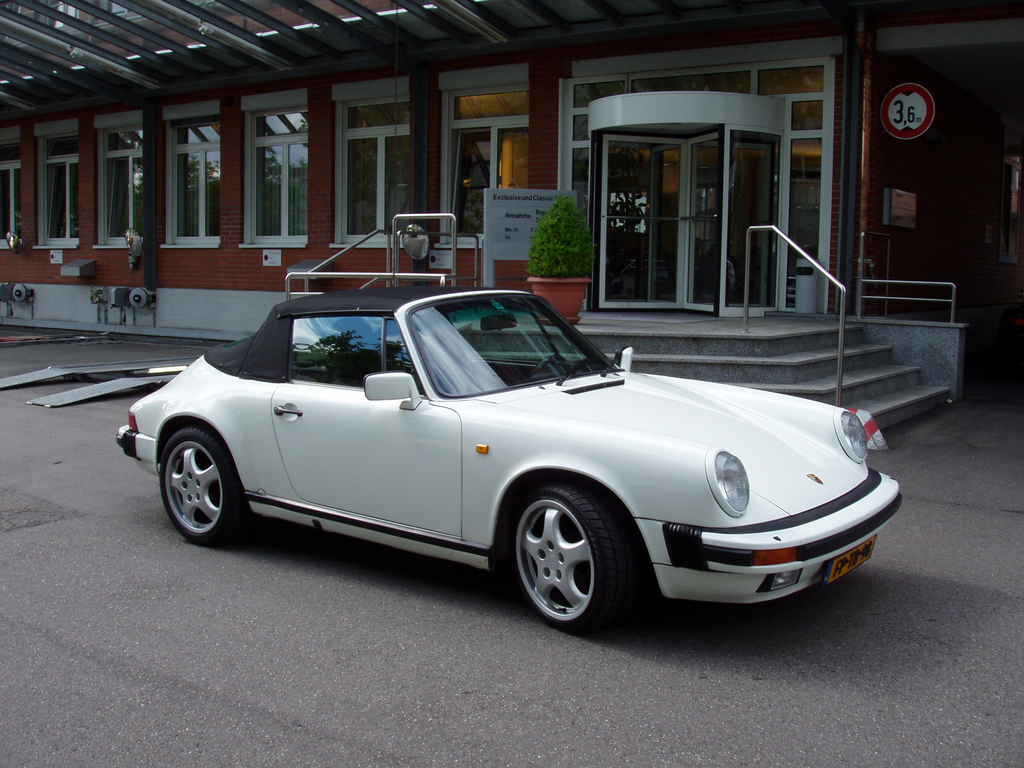Car: (116, 286, 901, 632)
